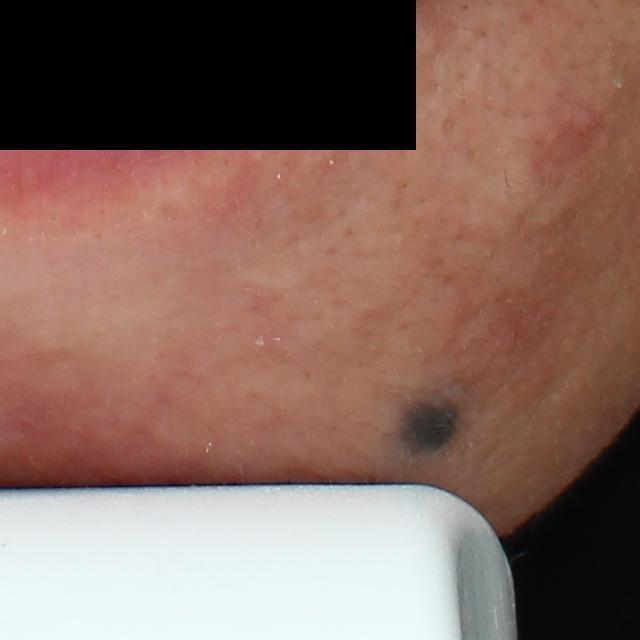nevus: (394, 386, 463, 458)
papule: (574, 108, 598, 138)
